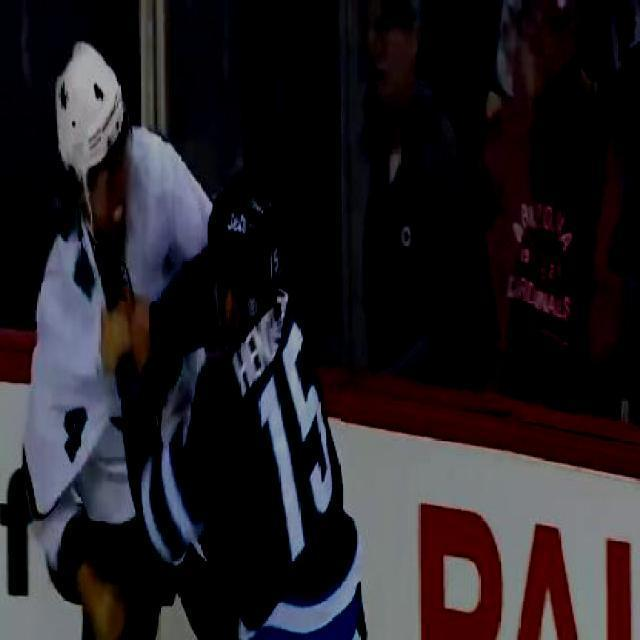fight: (26, 28, 349, 640)
